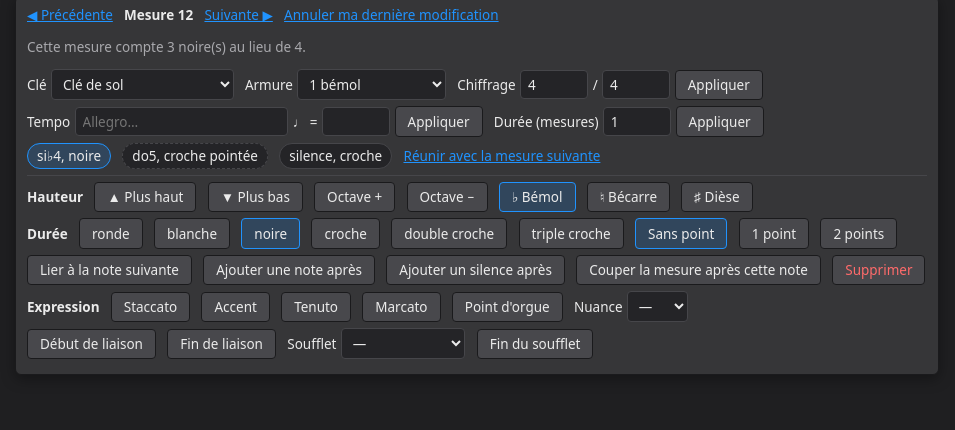
Test: MeasureEditor › affiche un geste refusé
Click the button "Supprimer".
click(879, 270)  # box [832, 255, 925, 285]
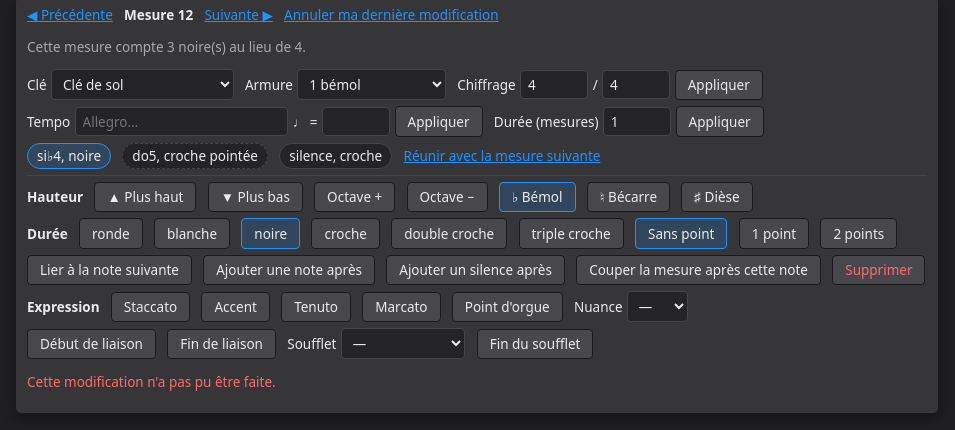
Expected: the text "Cette modification n'a pas pu être faite." is shown, [27, 373, 276, 391]
